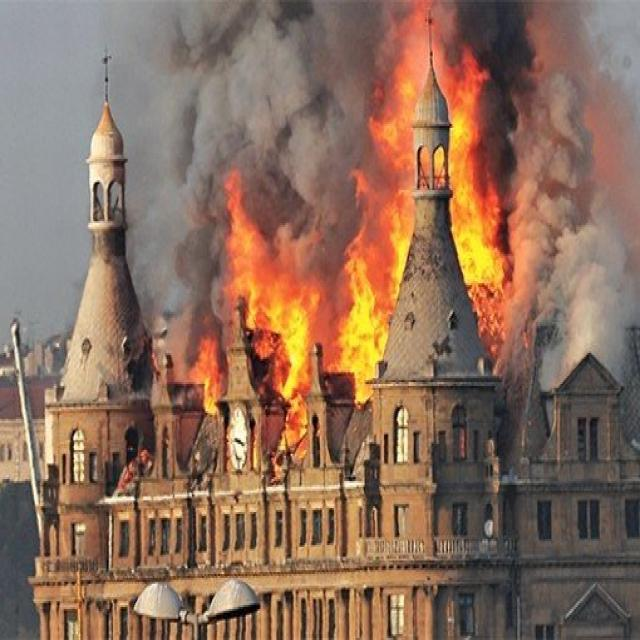Fire: (182, 0, 516, 487)
Smoke: (514, 0, 640, 378), (182, 0, 367, 171)
